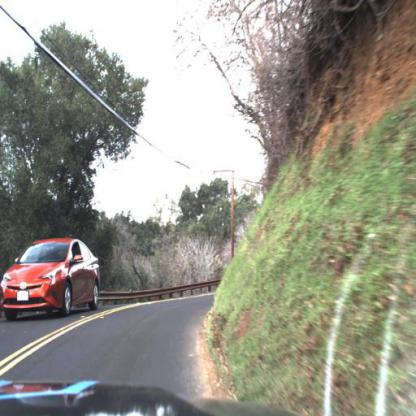car: (1, 234, 103, 321)
